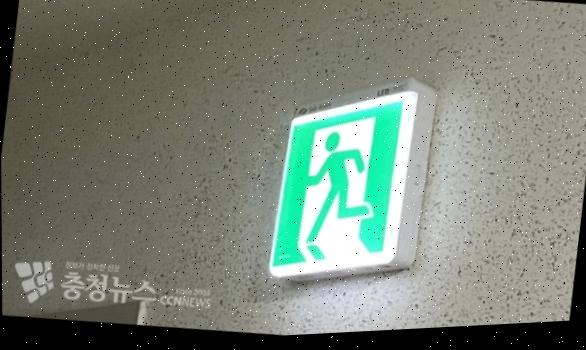emergency_exit: (267, 78, 437, 281)
